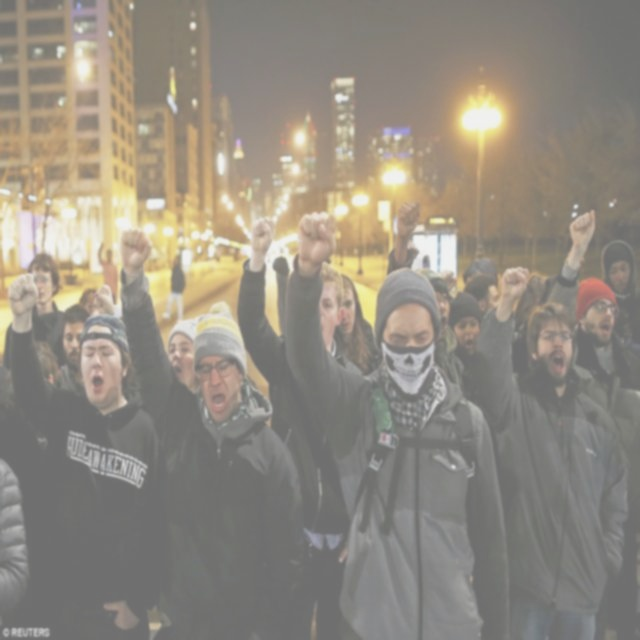pessoa: (280, 208, 514, 639), (112, 225, 308, 640), (467, 264, 634, 640), (3, 268, 164, 640), (234, 212, 372, 640), (546, 208, 640, 416), (384, 198, 466, 394), (91, 285, 204, 410), (271, 254, 378, 372), (0, 348, 32, 640), (0, 250, 67, 374), (600, 239, 640, 392), (58, 301, 102, 400), (446, 290, 484, 394), (516, 267, 554, 316), (161, 254, 186, 324), (462, 272, 500, 318), (466, 242, 504, 286), (395, 236, 438, 273), (34, 337, 62, 390), (99, 241, 121, 306), (441, 261, 466, 302), (76, 282, 100, 316), (560, 253, 590, 276)
